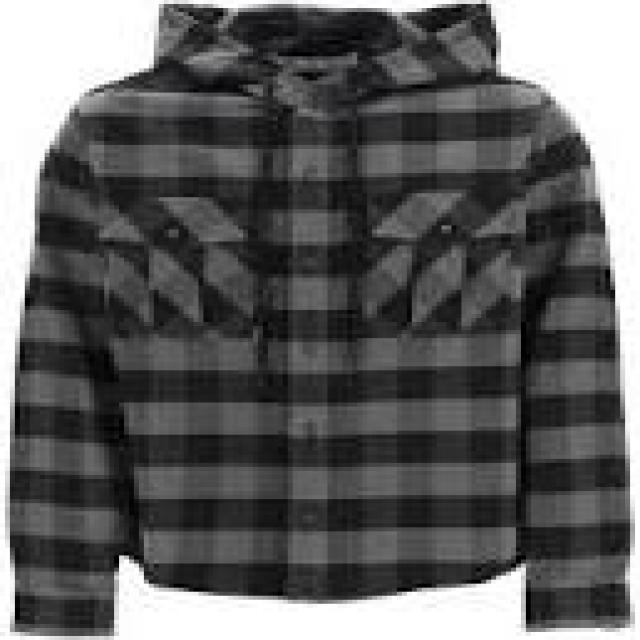plaid: (5, 0, 640, 632)
